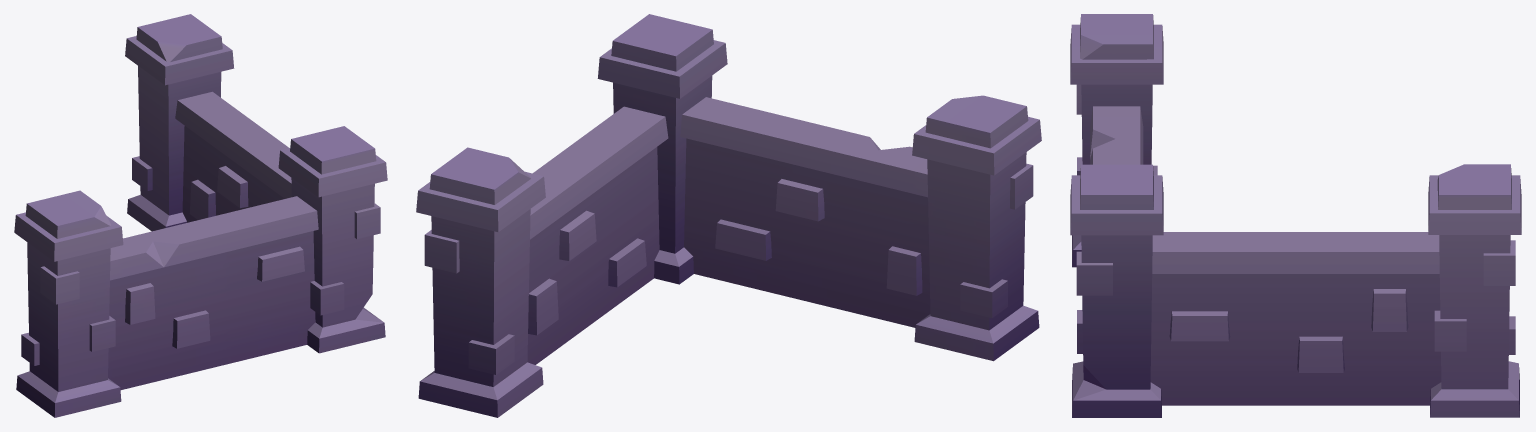
The model's file is wallcorner.glb.
3 renders of one model, left to right at view 1: azimuth 30°, elevation 25°; view 2: azimuth 150°, elevation 25°; view 3: azimuth 270°, elevation 25°, orthographic. The views are drawn at different scales.
Visible parts, largest first — view 1: wallCorner; view 2: wallCorner; view 3: wallCorner.
Part boxes in pixels (<box>): wallCorner: <box>14,14,387,417</box>; wallCorner: <box>416,14,1041,417</box>; wallCorner: <box>1070,14,1521,417</box>.
Bounding box in the file's own units: 4.44 × 2.39 × 4.45.
1 material, 1 textured.
